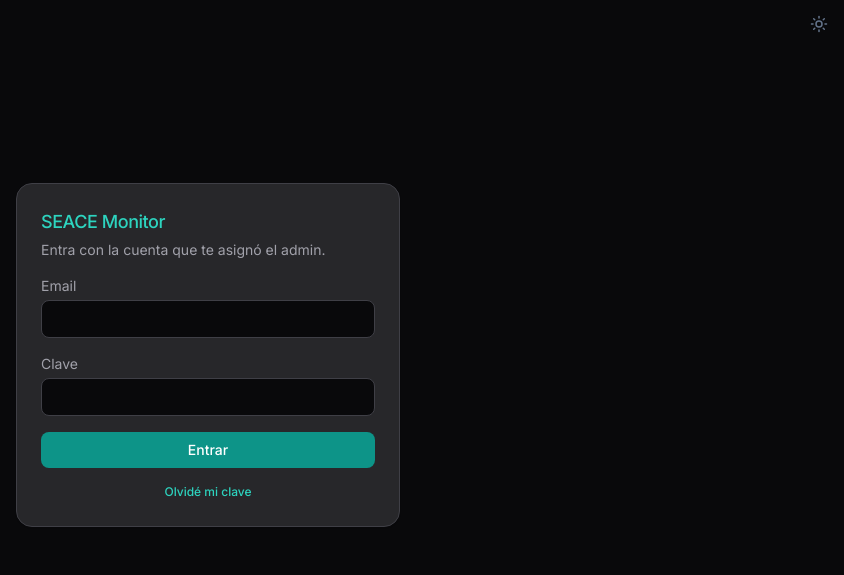
Scenario: Login › envía credenciales y muestra el error si el login falla
The width and height of the screenshot is (844, 575).
In the field labelled "Email": x=208, y=319 [41,300,375,338], type "ana@seace.test"
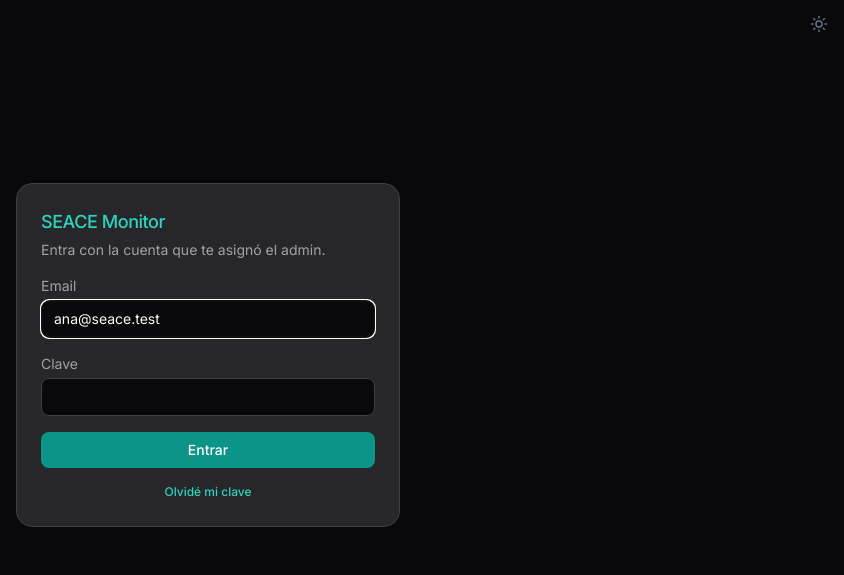
In the password field labelled "Clave": x=208, y=397 [41,378,375,416], type "secreto123"
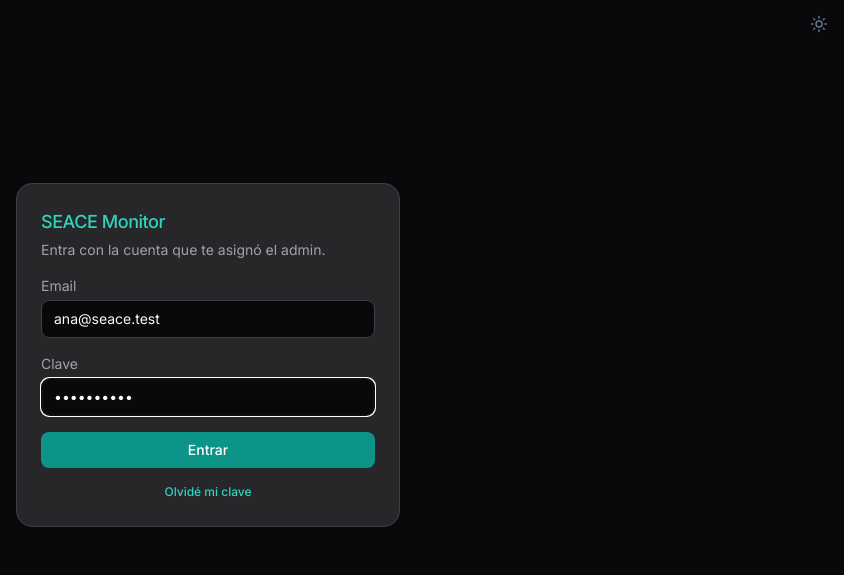
Click the button "Entrar": x=208, y=450 [41,432,375,468]
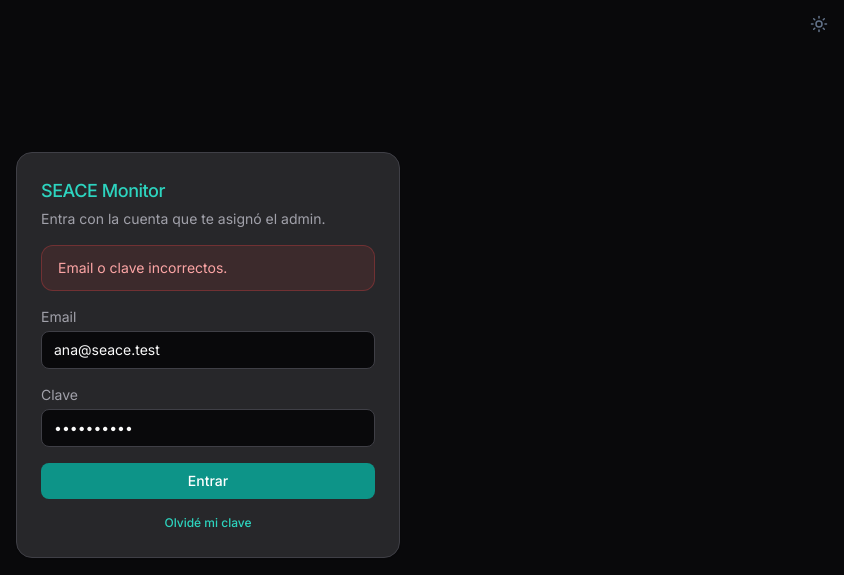
Check: the text "Email o clave incorrectos." is shown, box [58,259,227,276]
